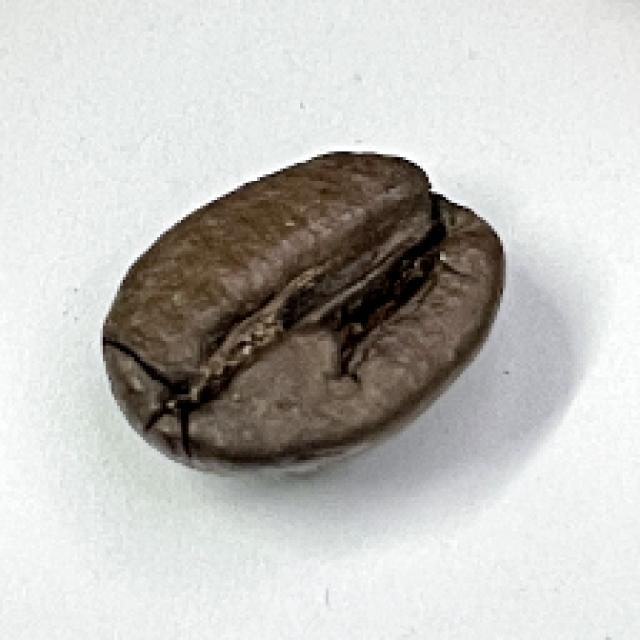bean: (96, 148, 507, 480)
